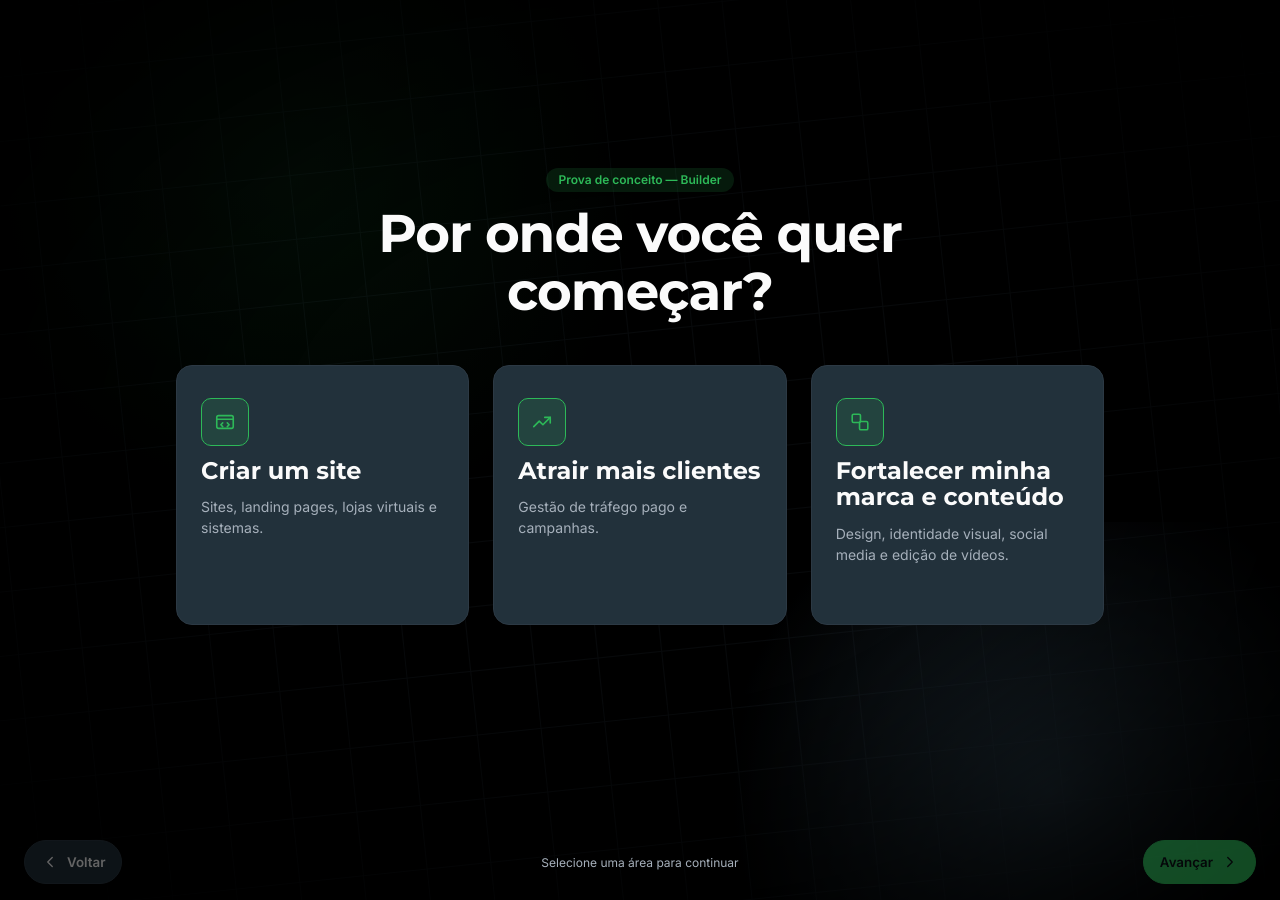
Test case: BuilderExperiencePoc (Prova de Conceito — Builder) › clicar Avançar depois de selecionar Site leva à pergunta real 'Que tipo de site você precisa?'
Click the button "Criar um site" at (225, 421), box [176,364,469,624]
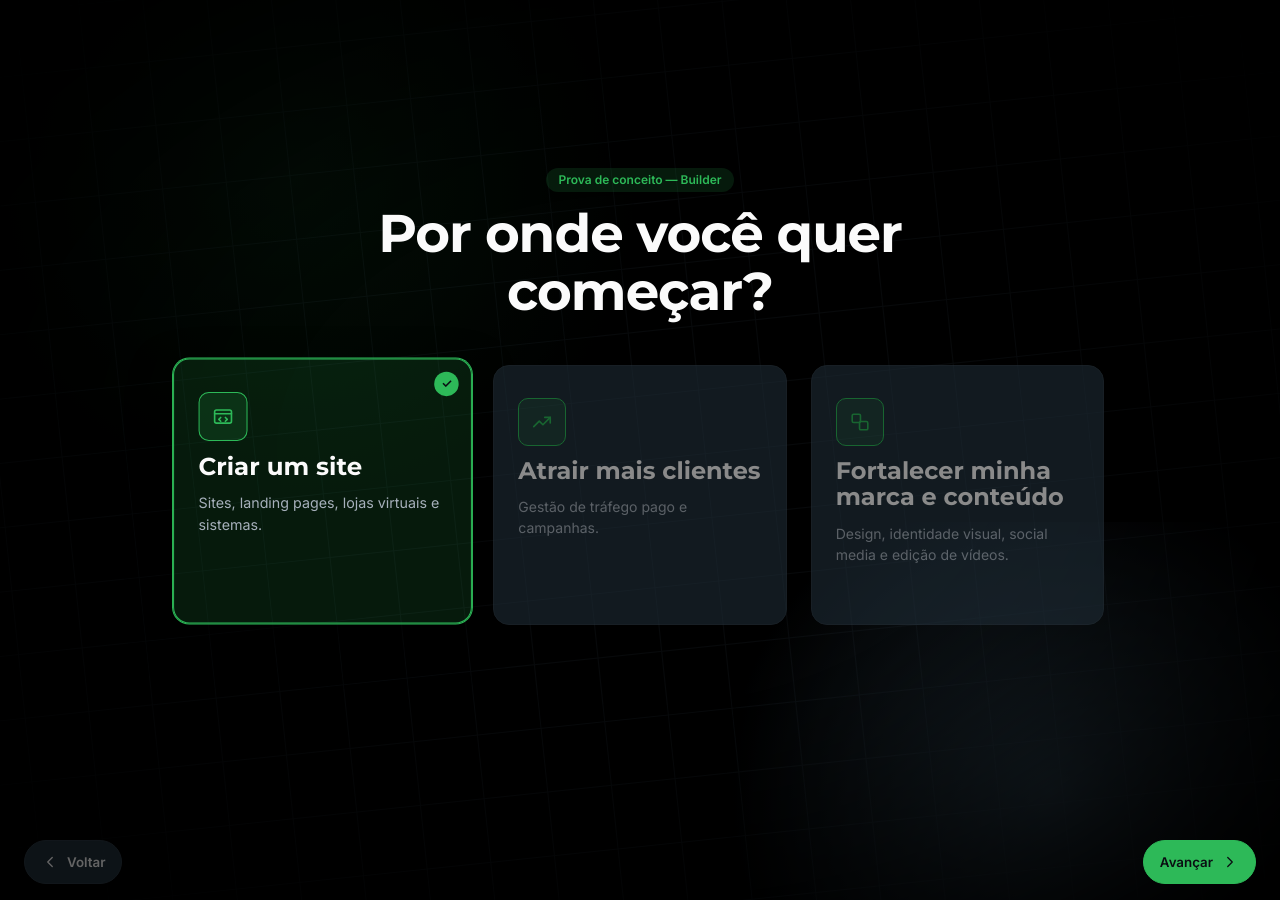
Click the button with aria-label "Avançar para a próxima cena" at (1199, 862), box [1143,840,1256,884]
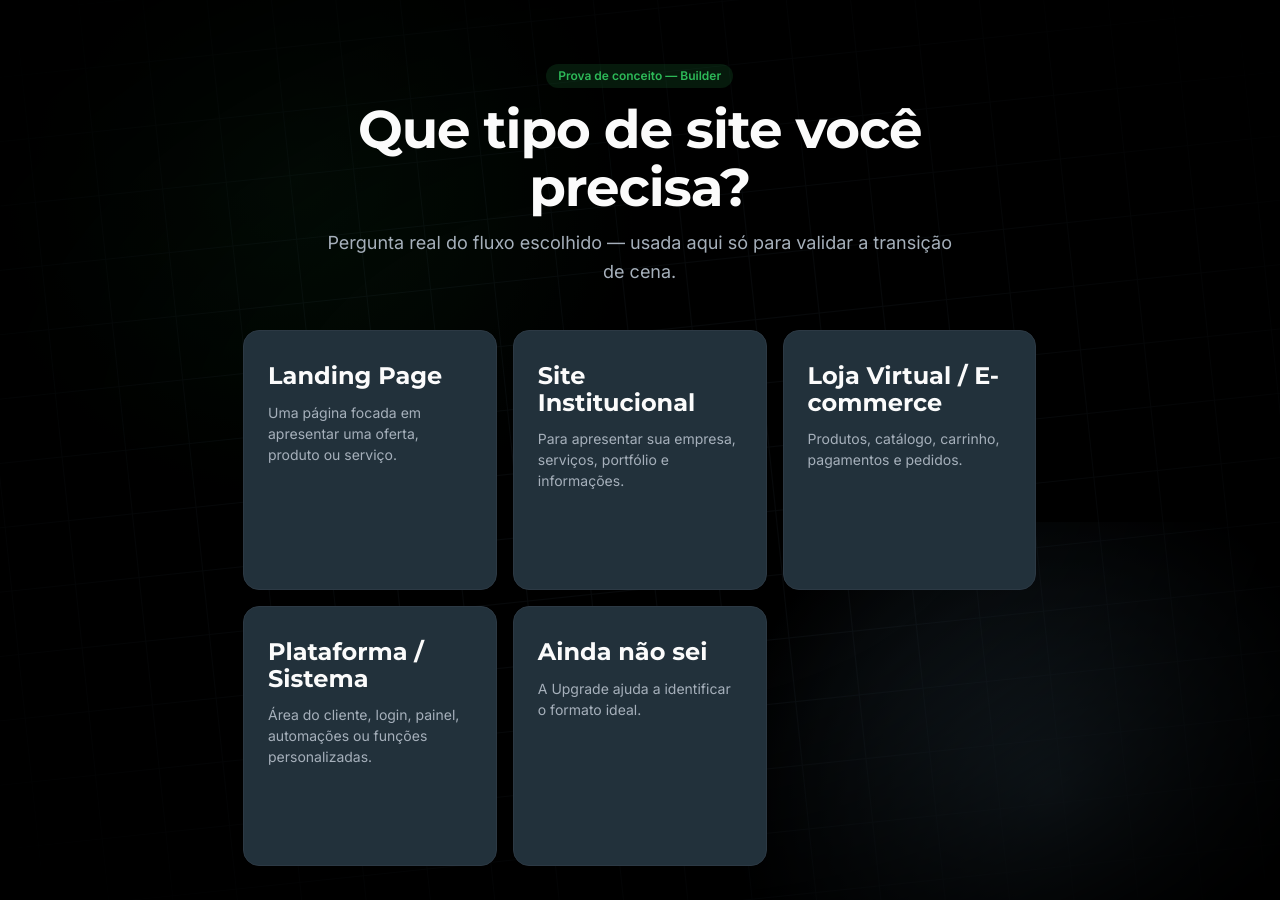
Expected: the text "Landing Page" is shown, [268,364,443,390]
Result: the heading "Que tipo de site você precisa?" is shown at [358,97,922,219]
